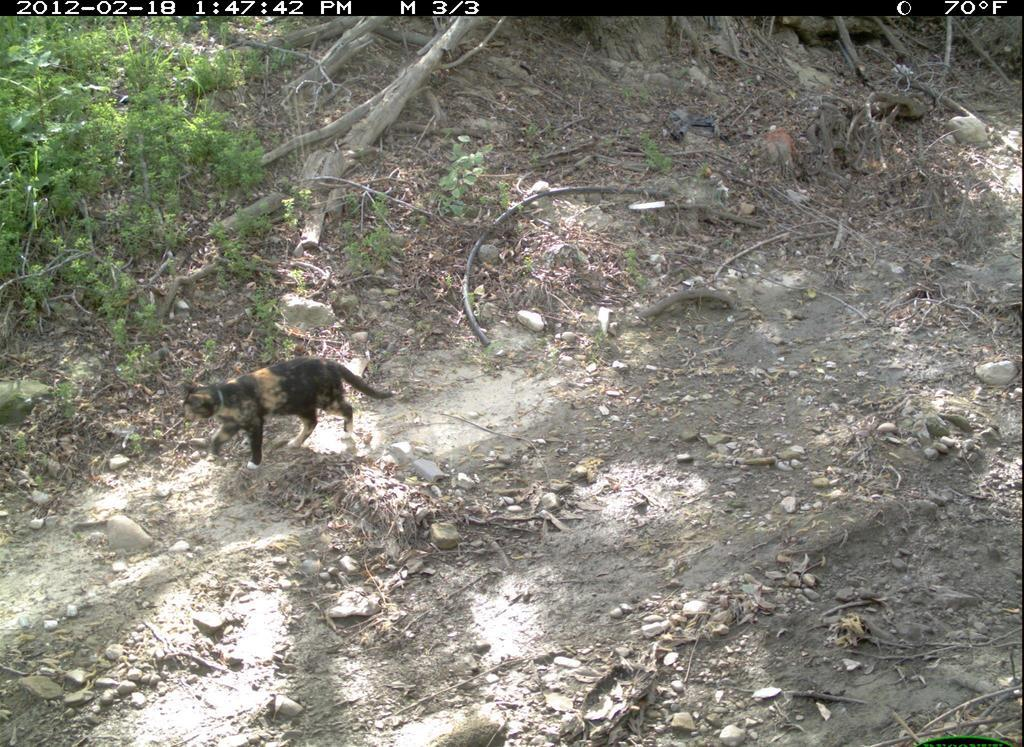cat: (182, 351, 400, 474)
